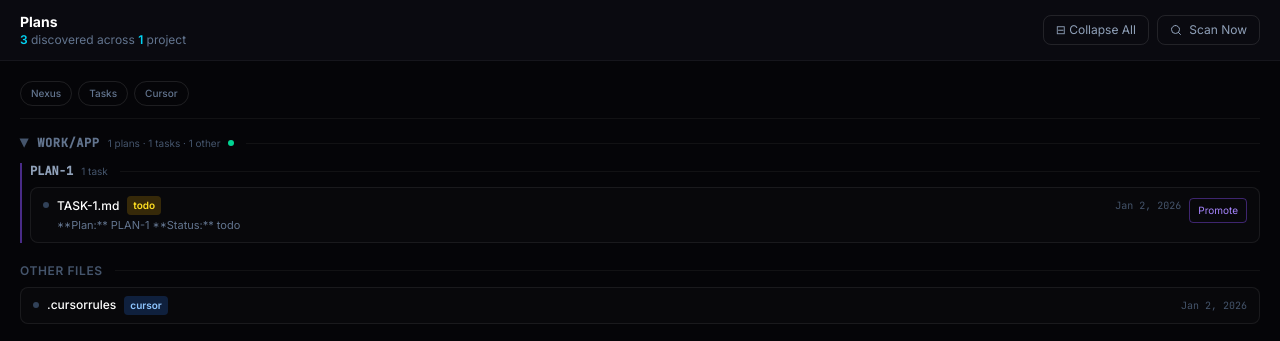
DiscoveredPlansView — filters and collapse › filters by kind, combines kinds, and clears
Click the button "Cursor": (161, 94) [134, 81, 188, 106]
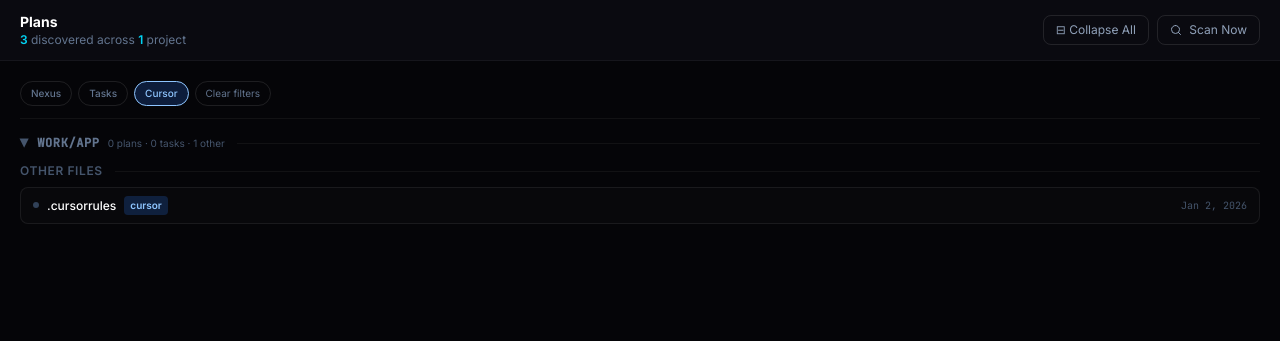
Expected: the text ".cursorrules" is shown, [47, 198, 116, 214]
Result: the text "TASK-1.md" is gone
Click the button "Tasks": (103, 94) [78, 81, 128, 106]
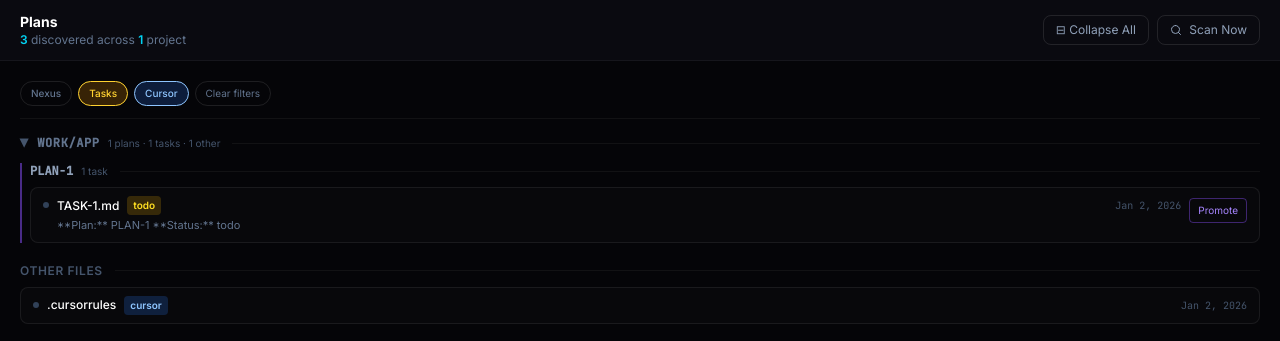
Result: the text "TASK-1.md" is shown at [57, 198, 119, 214]
Click the button "Cursor": (161, 94) [134, 81, 188, 106]
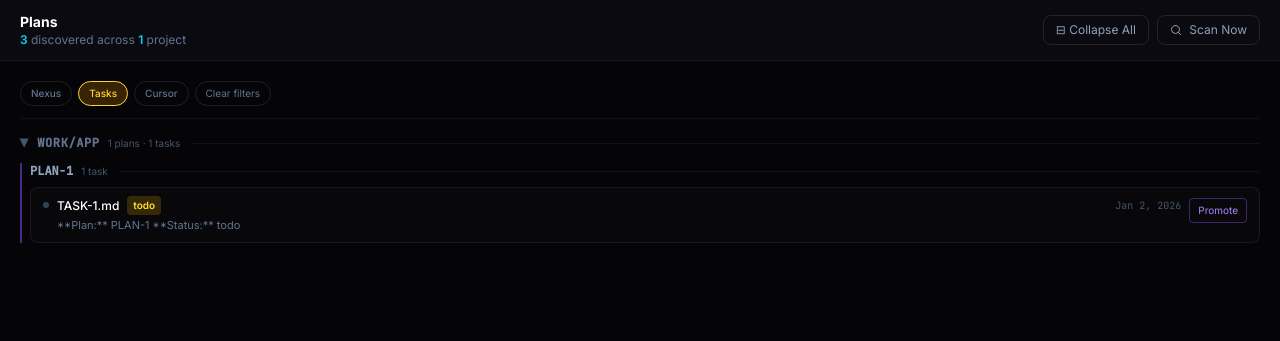
Result: the text ".cursorrules" is gone
Click the button "Clear filters": (233, 94) [195, 81, 271, 106]
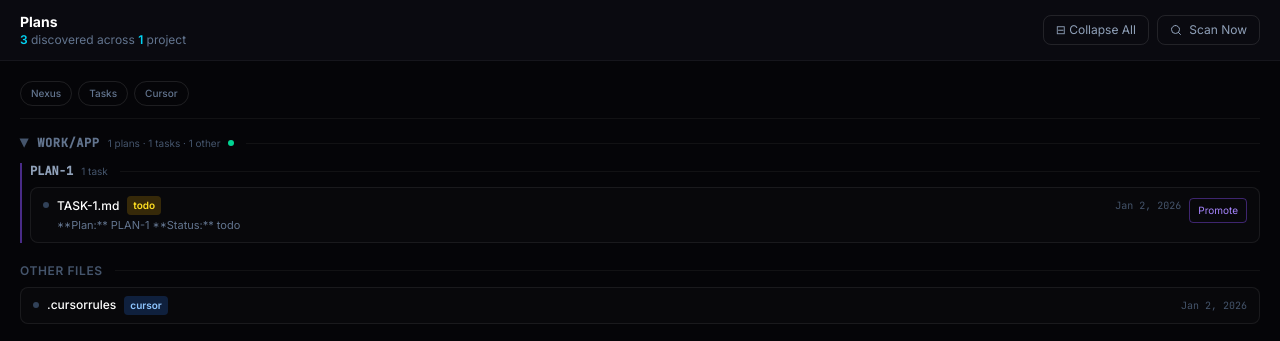
Result: the text ".cursorrules" is shown at [47, 297, 116, 313]
Result: the text "Clear filters" is gone
